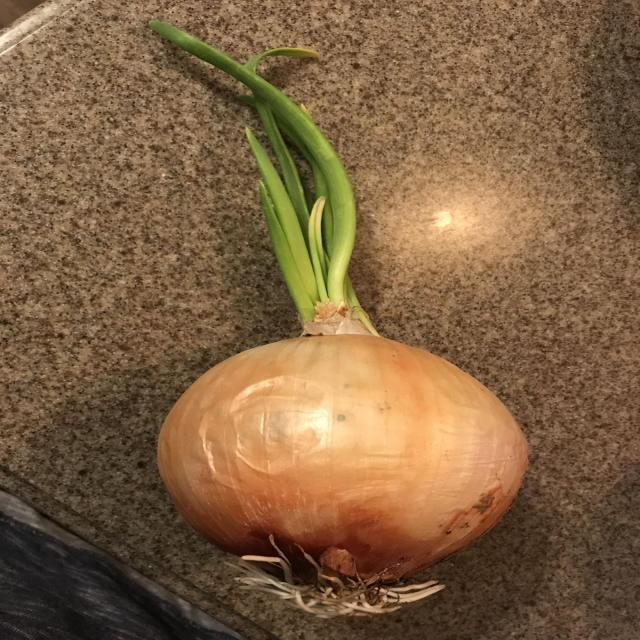sprouting: (126, 13, 534, 632)
